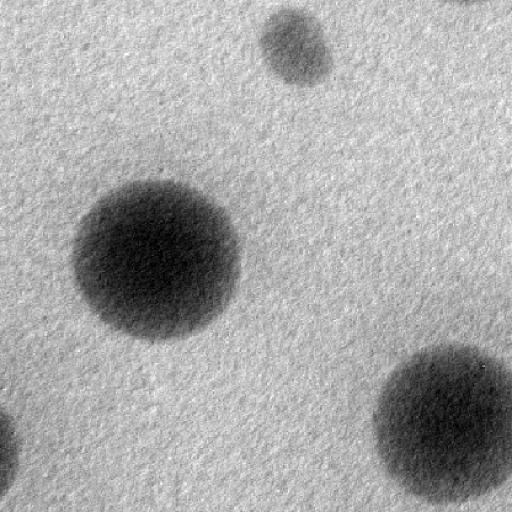Nanoparticles: (72, 178, 236, 337), (373, 340, 512, 512), (257, 9, 342, 90), (2, 408, 22, 500)
